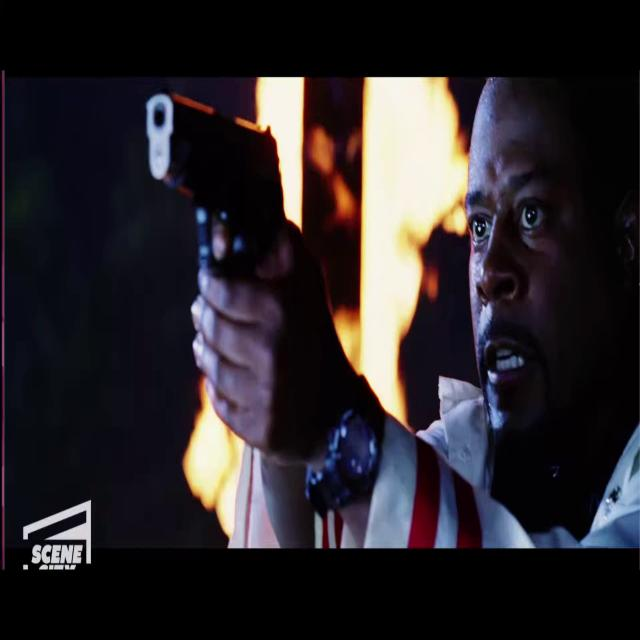weapons: (138, 71, 304, 352)
